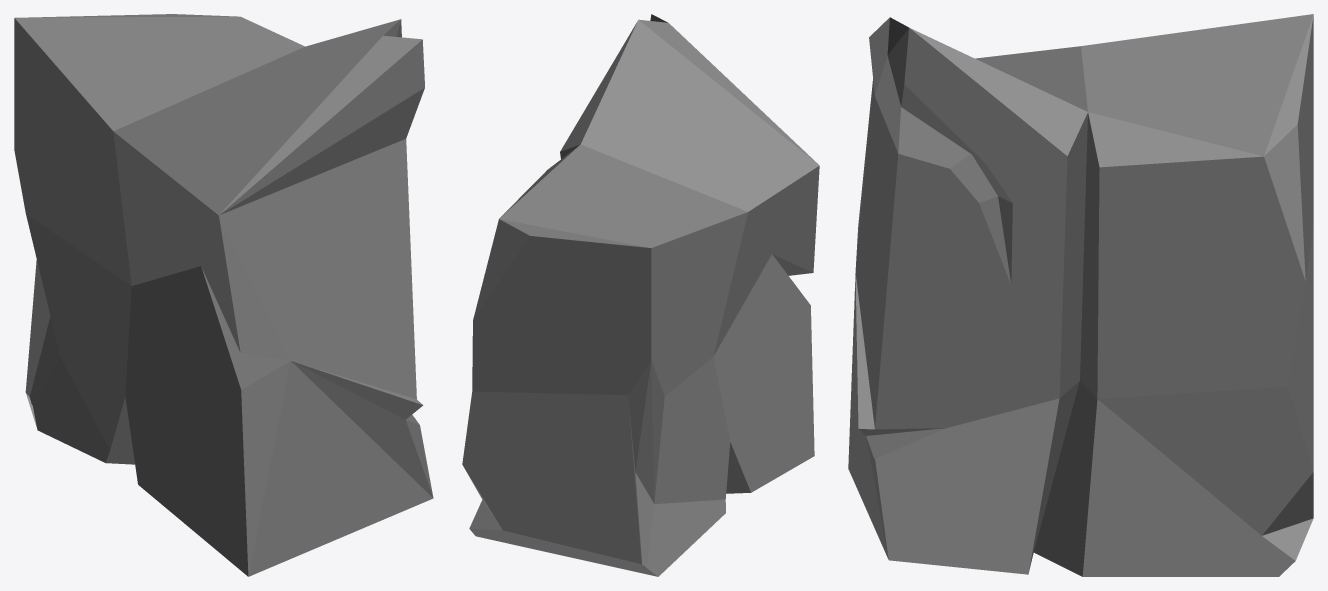
The model's file is Fixed Wall 2.fbx.
3 views of the same model, side by side, from view 1: azimuth 30°, elevation 25°; view 2: azimuth 150°, elevation 25°; view 3: azimuth 270°, elevation 25° (orthographic). The views are drawn at different scales.
Parts seen in each view (by area): view 1: Cube.241; view 2: Cube.241; view 3: Cube.241.
Boxes of the visible parts, box(x1,y1,x2,y2) form: Cube.241: box(14, 14, 433, 576); Cube.241: box(462, 14, 819, 576); Cube.241: box(848, 14, 1313, 576).
Bounding box in the file's own units: 71.44 × 145 × 114.
